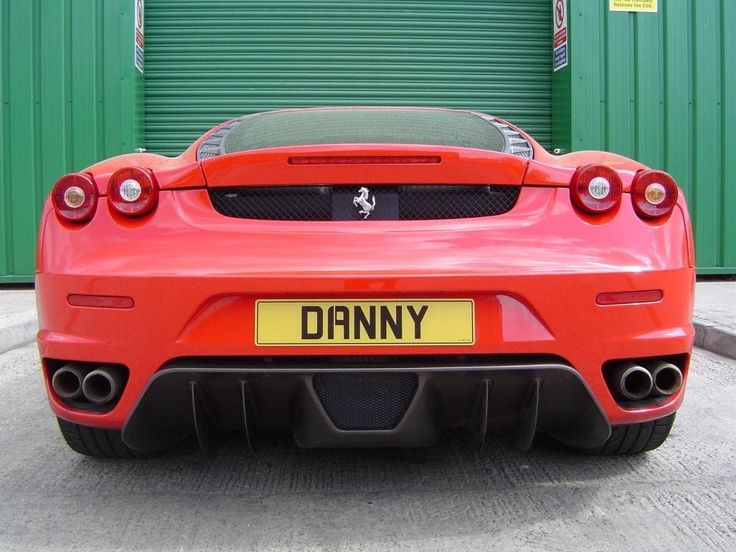plate: (253, 300, 480, 344)
